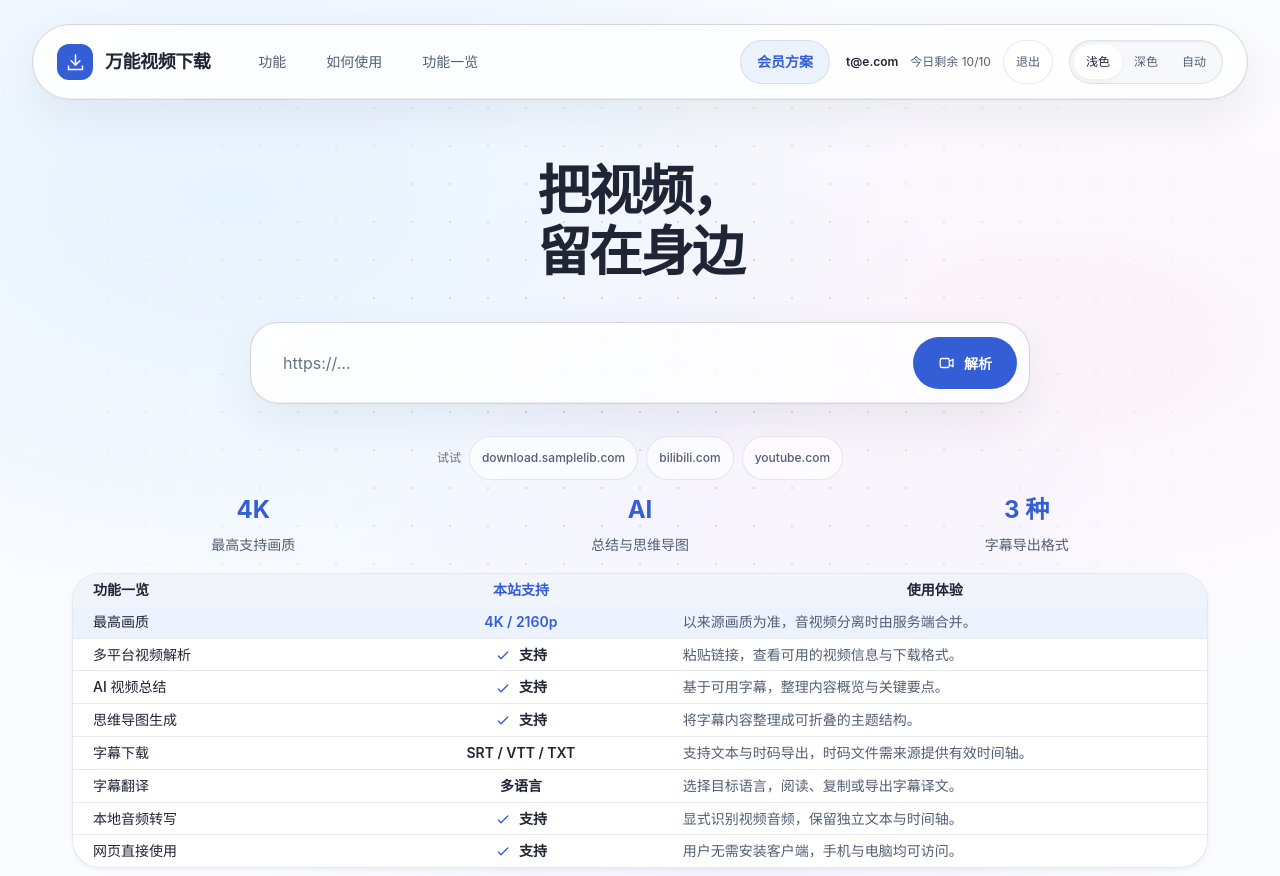
Test: App 功能闭环 › 解析未发现字幕时仍可显式获取内容并生成总结
This screenshot has width=1280, height=876.
Type "https://example.com/recovered" into the field named "视频链接" at [582, 363], box [263,335,901,391]
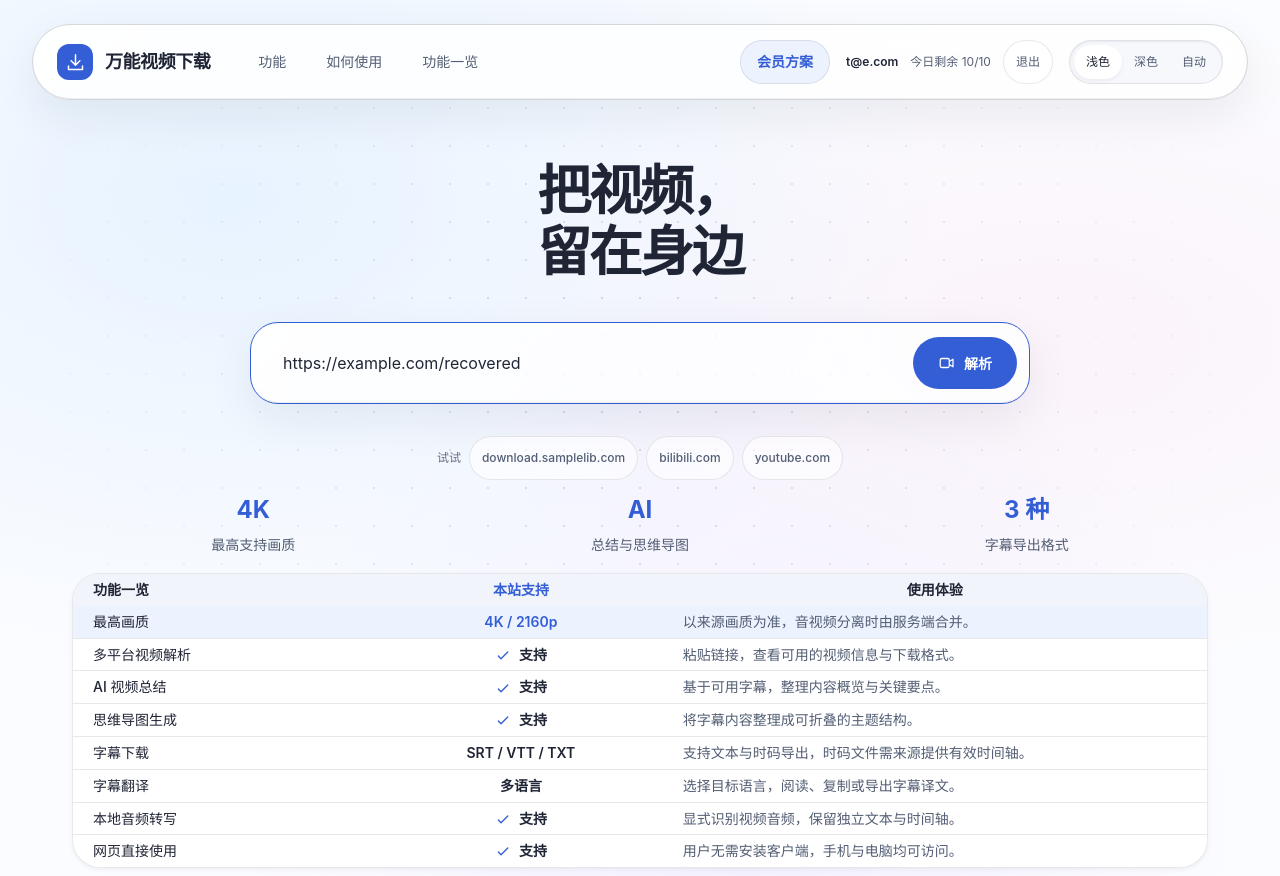
Click the button "解析" at [965, 363], box [913,337,1017,389]
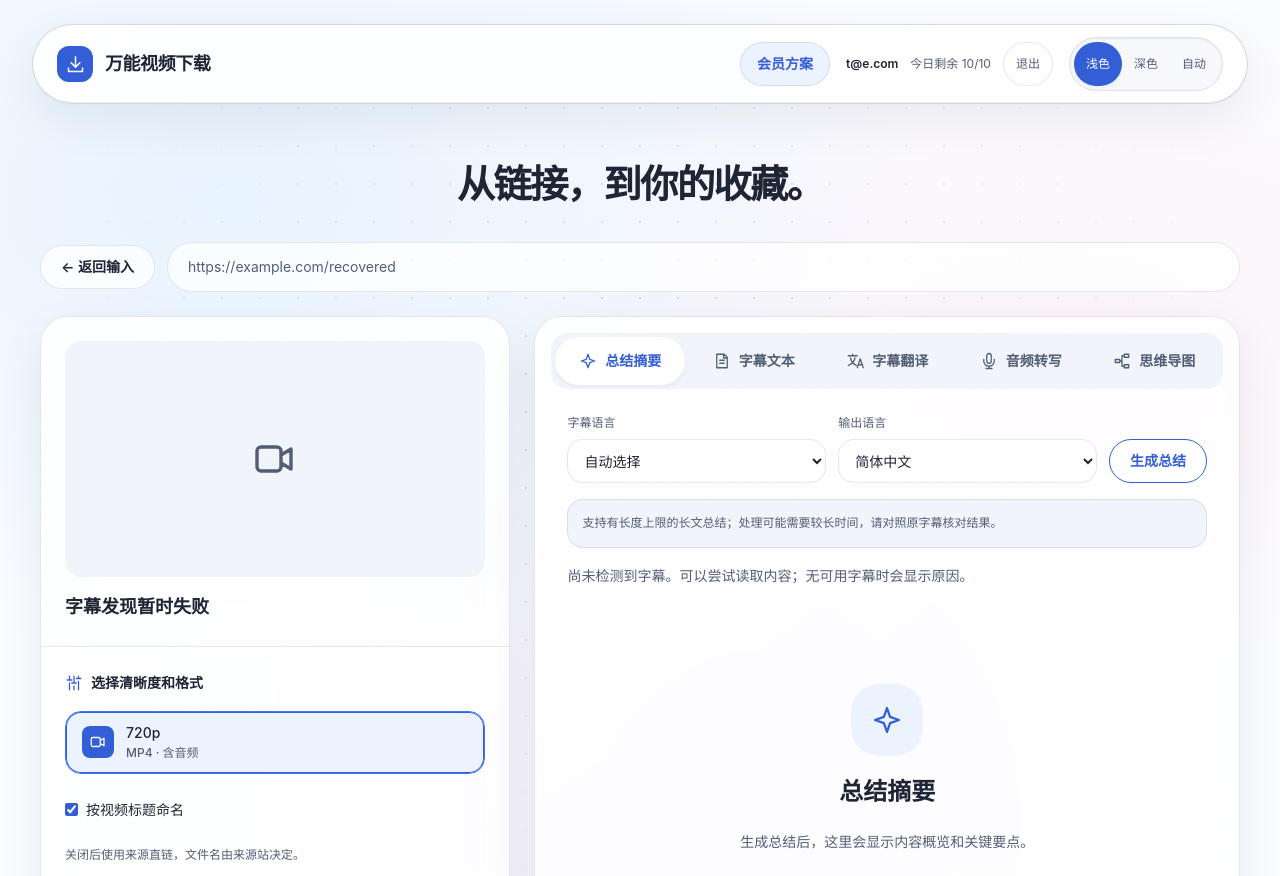
Click the button "720p MP4 · 含音频" at [98, 742], box [65,711,485,774]
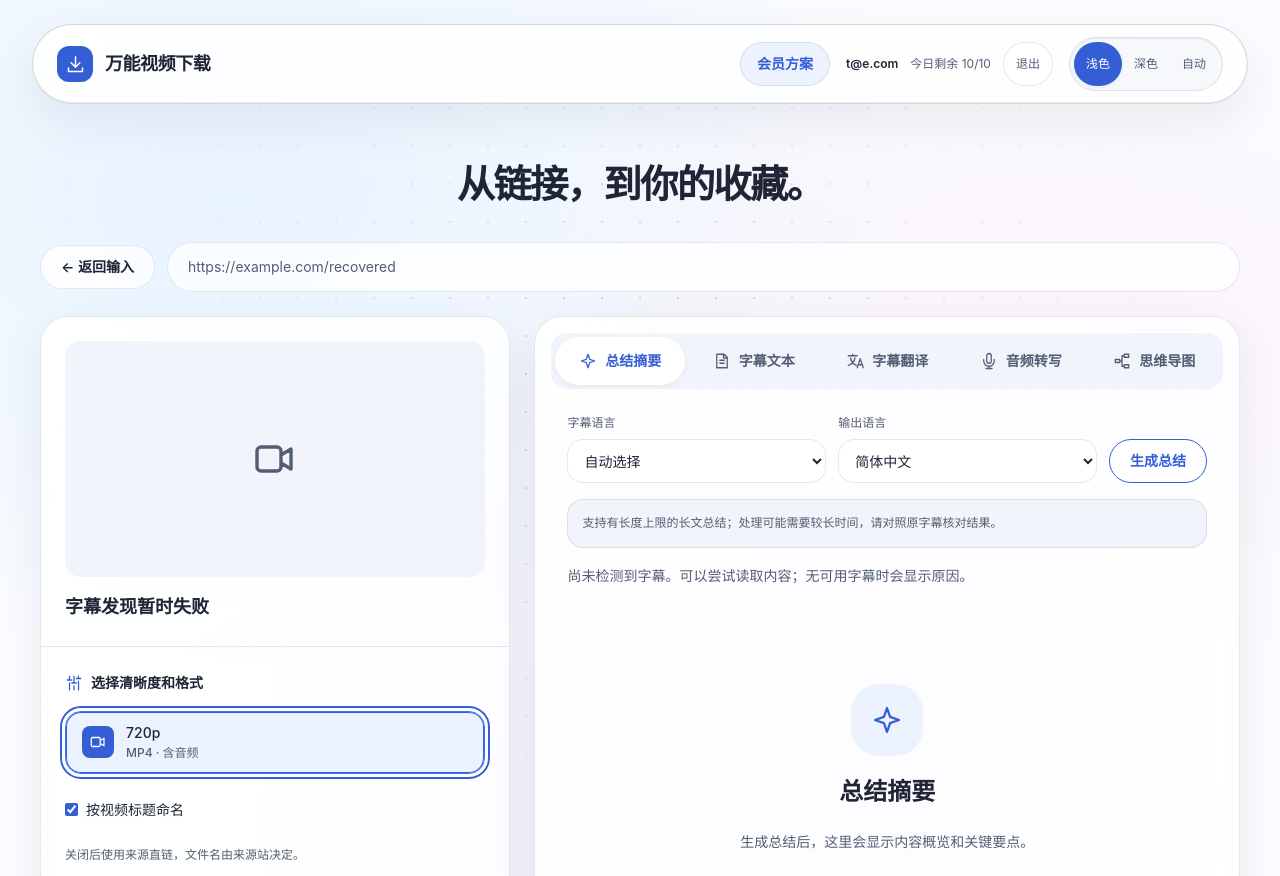
Click the button "生成总结" at [1158, 461], box [1109,439,1207,483]
(page scrolled)
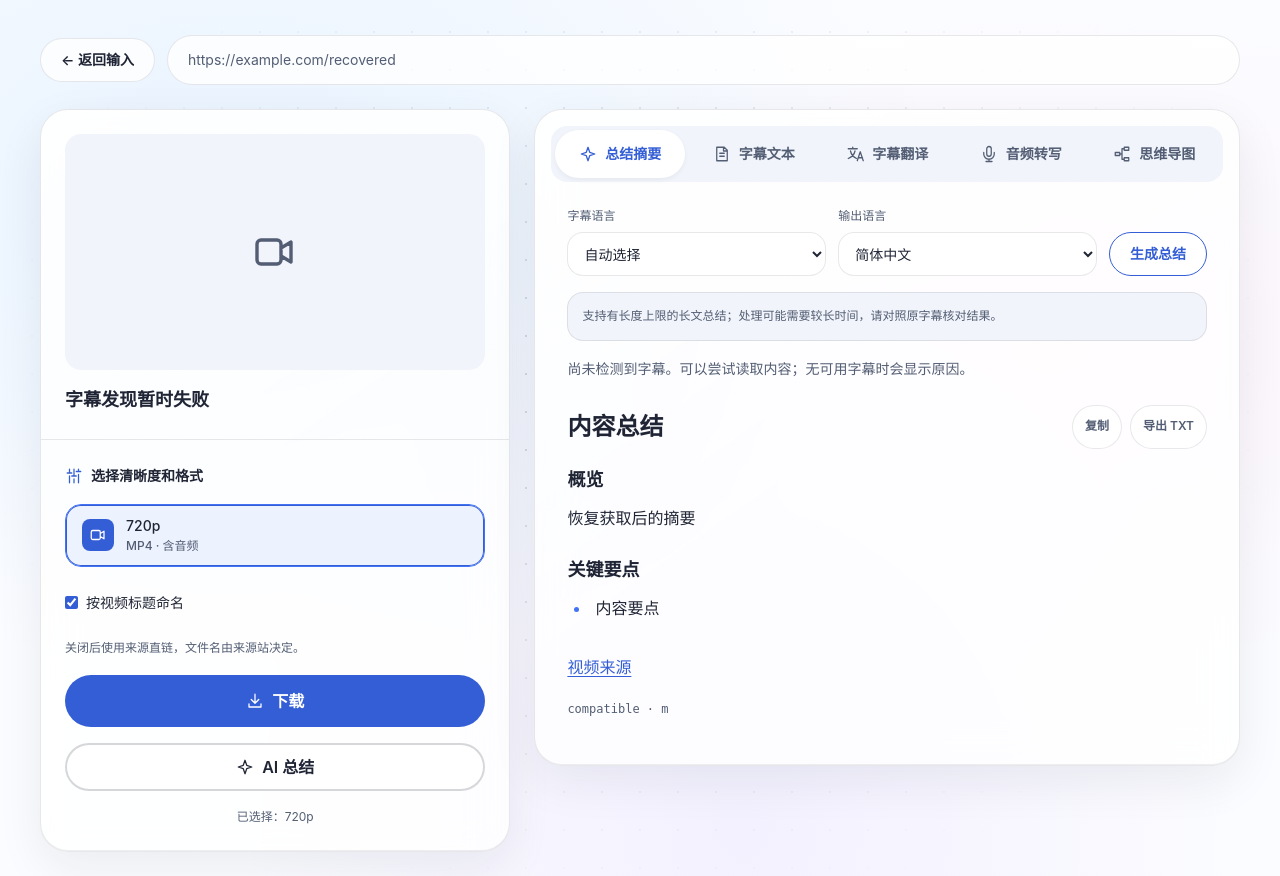
expect the button "下载" is enabled: met, box [65,675,485,727]
expect the element with test id "summary-result" shows "恢复获取后的摘要": met, box [567,508,695,528]
